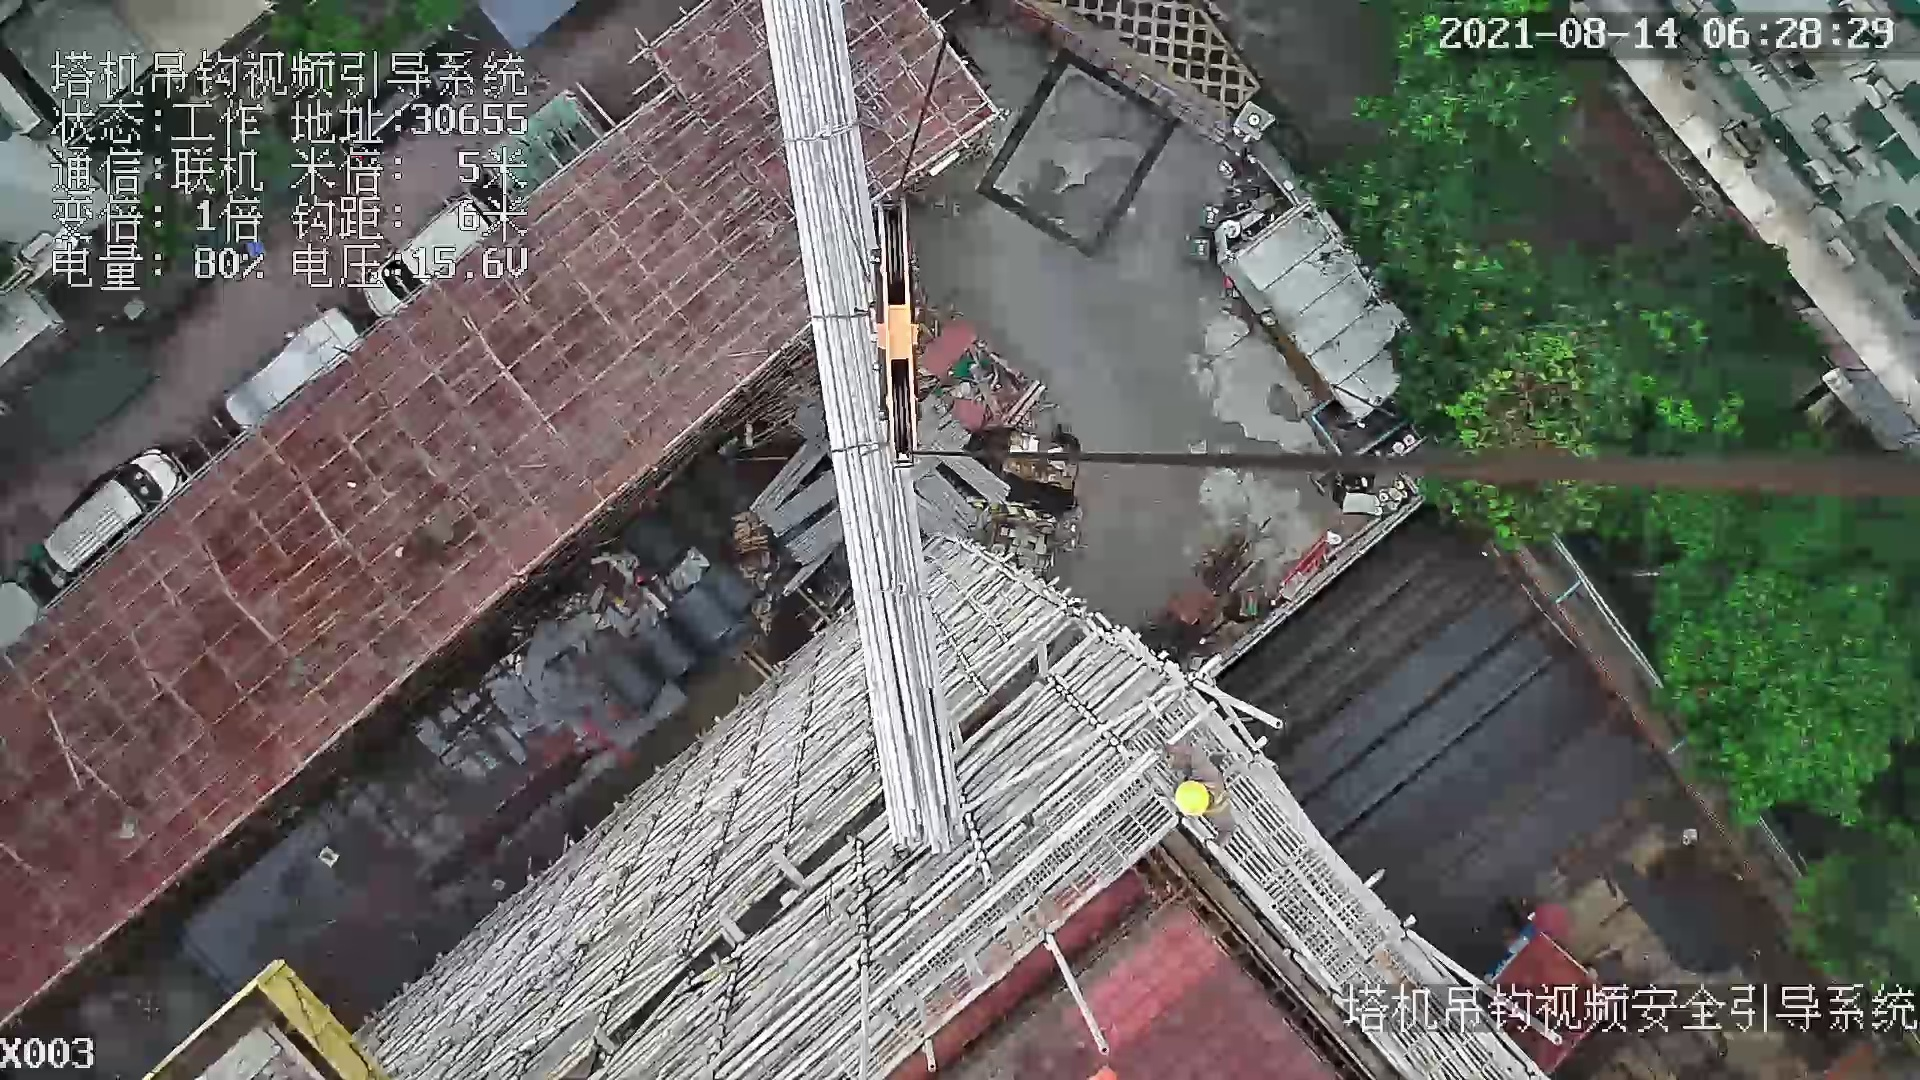helmet: (1169, 775, 1214, 816)
hook: (868, 197, 918, 473)
person: (1144, 747, 1241, 849)
